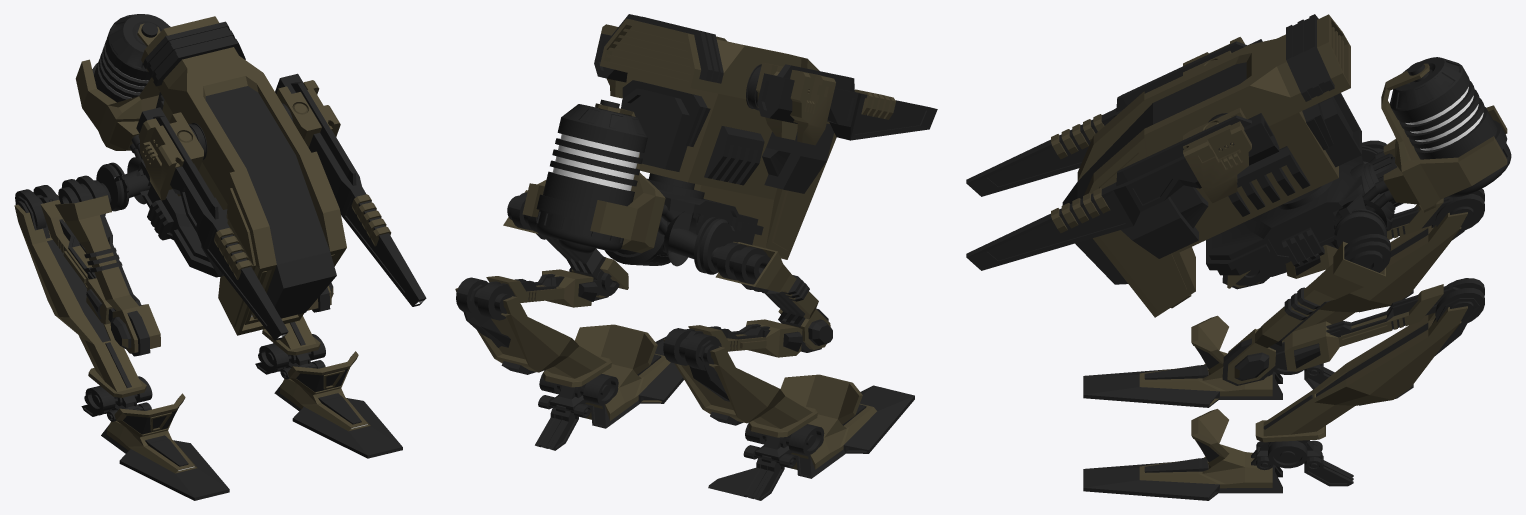
File: Robot_03.fbx
The picture shows the model from 3 angles, left to right: view 1: azimuth 30°, elevation 25°; view 2: azimuth 150°, elevation 25°; view 3: azimuth 270°, elevation 25°; orthographic projection. The views are drawn at different scales.
Visible parts, largest first — view 1: Robot_05, Robot_05.004, Robot_05.001; view 2: Robot_05, Robot_05.004, Robot_05.001; view 3: Robot_05, Robot_05.001, Robot_05.004.
Part boxes in pixels (bbox=[...]): Robot_05: bbox=[75, 14, 426, 340]; Robot_05.004: bbox=[14, 162, 229, 500]; Robot_05.001: bbox=[255, 282, 402, 458]; Robot_05: bbox=[522, 14, 937, 266]; Robot_05.004: bbox=[663, 217, 914, 500]; Robot_05.001: bbox=[455, 190, 683, 450]; Robot_05: bbox=[966, 14, 1511, 317]; Robot_05.001: bbox=[1083, 193, 1484, 500]; Robot_05.004: bbox=[1083, 140, 1484, 407].
Bounding box in the file's own units: 49.25 × 71.46 × 86.4.
